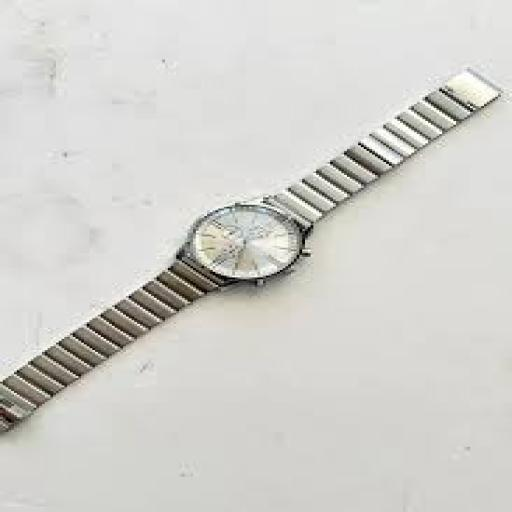KolSaati: (0, 67, 507, 453)
